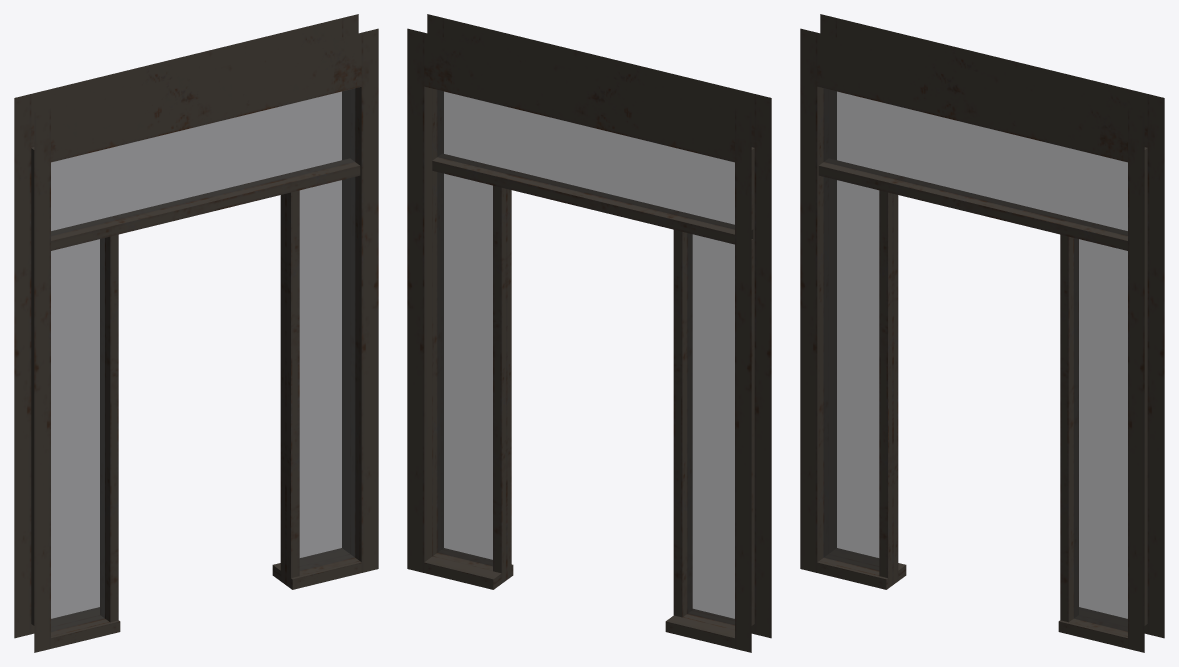
The model's file is doorframe_metal_single.glb.
3 renders of one model, left to right at view 1: azimuth 30°, elevation 25°; view 2: azimuth 150°, elevation 25°; view 3: azimuth 330°, elevation 25°, orthographic.
Parts seen in each view (by area): view 1: DoorFrame_Metal_Single; view 2: DoorFrame_Metal_Single; view 3: DoorFrame_Metal_Single.
Part boxes in pixels (x1,y1,x2,y2): DoorFrame_Metal_Single: (14, 14, 378, 652); DoorFrame_Metal_Single: (407, 14, 771, 652); DoorFrame_Metal_Single: (800, 14, 1164, 652).
Bounding box in the file's own units: 2 × 3 × 0.2.
Materials: 2 (1 with a texture image).
